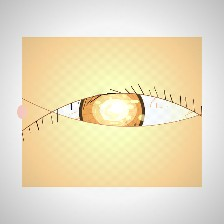corneal_ulcer: (91, 91, 138, 129)
